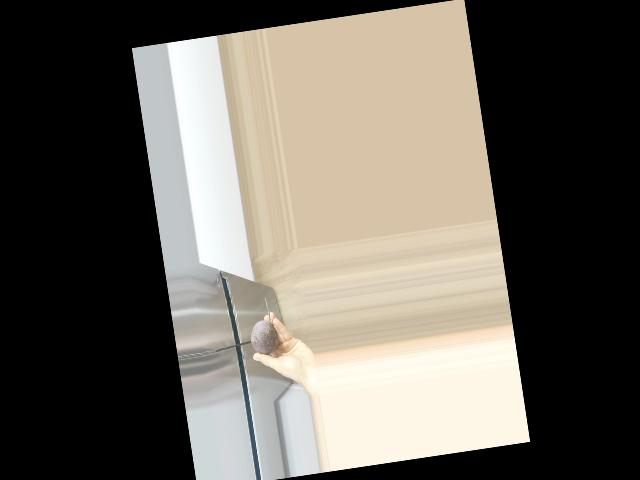beet: (245, 296, 279, 356)
